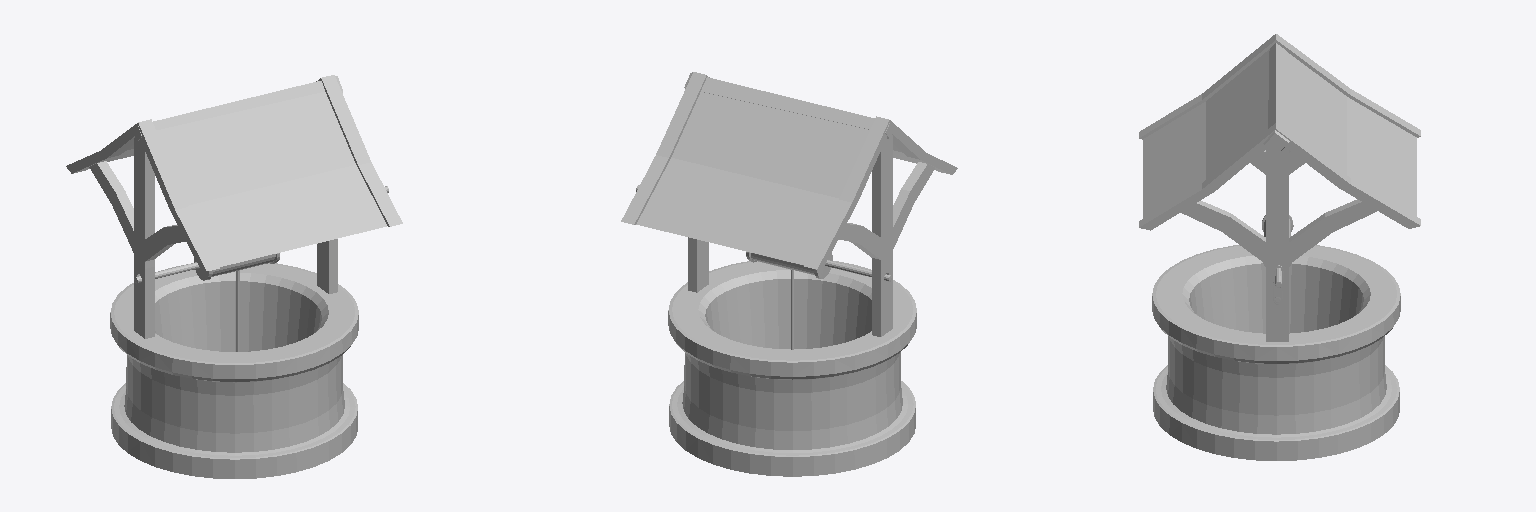
Rendered from well.obj.
The picture shows the model from 3 angles: view 1: azimuth 30°, elevation 25°; view 2: azimuth 150°, elevation 25°; view 3: azimuth 270°, elevation 25°; orthographic projection.
Visible parts, largest first — view 1: g_Well_well.002_meshId2_name.001, g_Well_well.001_meshId1_name.001, g_Well_well_meshId0_name.002, g_textureEditorIsolateSelectSet_Well_well_meshId4_name.001, g_well_Pulley_meshId5_name.001; view 2: g_Well_well.002_meshId2_name.001, g_Well_well.001_meshId1_name.001, g_Well_well_meshId0_name.002, g_textureEditorIsolateSelectSet_Well_well_meshId4_name.001, g_well_Pulley_meshId5_name.001; view 3: g_Well_well.002_meshId2_name.001, g_Well_well_meshId0_name.002, g_Well_well.001_meshId1_name.001, g_textureEditorIsolateSelectSet_Well_well_meshId4_name.001.
Boxes of the visible parts, box(x1,y1,x2,y2) form: g_Well_well.002_meshId2_name.001: box(110, 263, 358, 478); g_Well_well.001_meshId1_name.001: box(107, 92, 386, 259); g_Well_well_meshId0_name.002: box(66, 75, 402, 338); g_textureEditorIsolateSelectSet_Well_well_meshId4_name.001: box(156, 124, 248, 266); g_well_Pulley_meshId5_name.001: box(134, 186, 388, 283); g_Well_well.002_meshId2_name.001: box(668, 261, 916, 476); g_Well_well.001_meshId1_name.001: box(636, 92, 917, 257); g_Well_well_meshId0_name.002: box(621, 72, 957, 336); g_textureEditorIsolateSelectSet_Well_well_meshId4_name.001: box(775, 123, 869, 264); g_well_Pulley_meshId5_name.001: box(636, 185, 891, 281); g_Well_well.002_meshId2_name.001: box(1152, 245, 1400, 460); g_Well_well_meshId0_name.002: box(1139, 34, 1420, 341); g_Well_well.001_meshId1_name.001: box(1143, 65, 1416, 218); g_textureEditorIsolateSelectSet_Well_well_meshId4_name.001: box(1143, 49, 1416, 153).
Size of the model in its own units: 0.5657 by 0.6779 by 0.529.